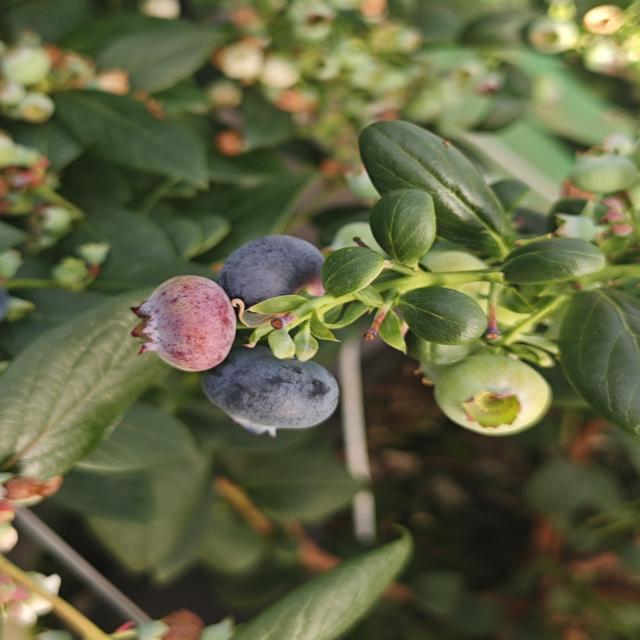ripe: (199, 343, 342, 439), (215, 233, 328, 313)
